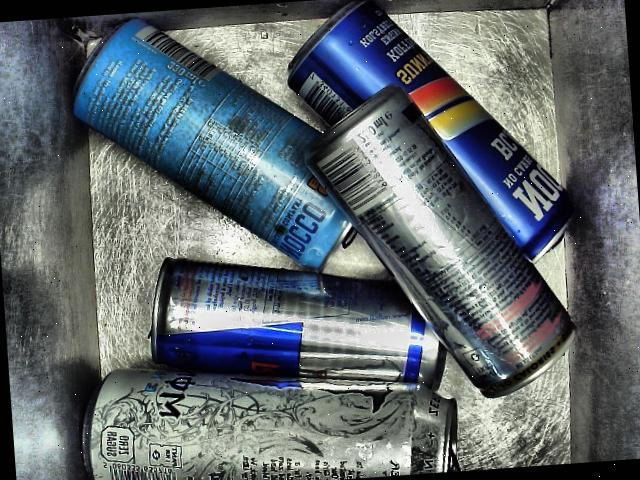Bottles: (269, 83, 573, 402), (54, 0, 373, 293), (55, 321, 488, 480), (295, 0, 572, 238), (141, 247, 449, 398)
